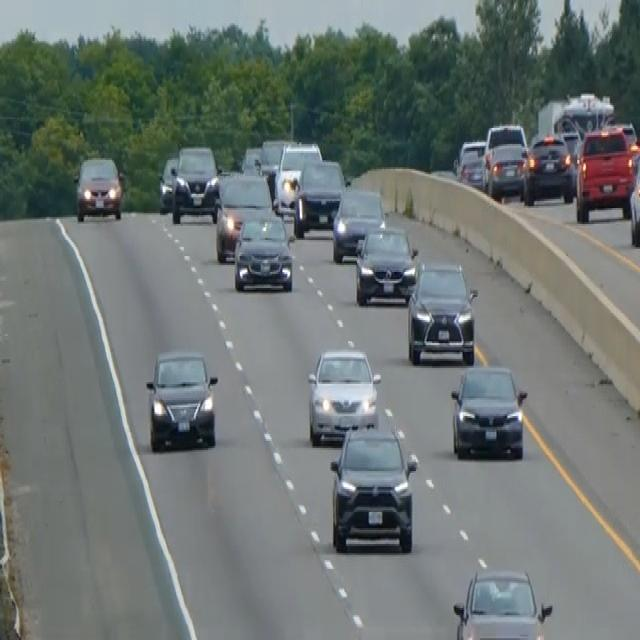car: (145, 346, 218, 452), (450, 362, 527, 460), (406, 258, 477, 364), (306, 345, 381, 444), (452, 566, 552, 638), (354, 222, 418, 306), (214, 171, 273, 261), (232, 210, 293, 292), (292, 156, 347, 238), (331, 185, 385, 261), (170, 142, 220, 222), (522, 130, 574, 204), (273, 139, 322, 215), (481, 121, 528, 197), (72, 153, 123, 222), (258, 137, 294, 183), (455, 137, 486, 187), (157, 153, 178, 211), (628, 147, 639, 245), (240, 144, 263, 174)
jeep: (328, 410, 418, 554), (572, 121, 637, 226)
